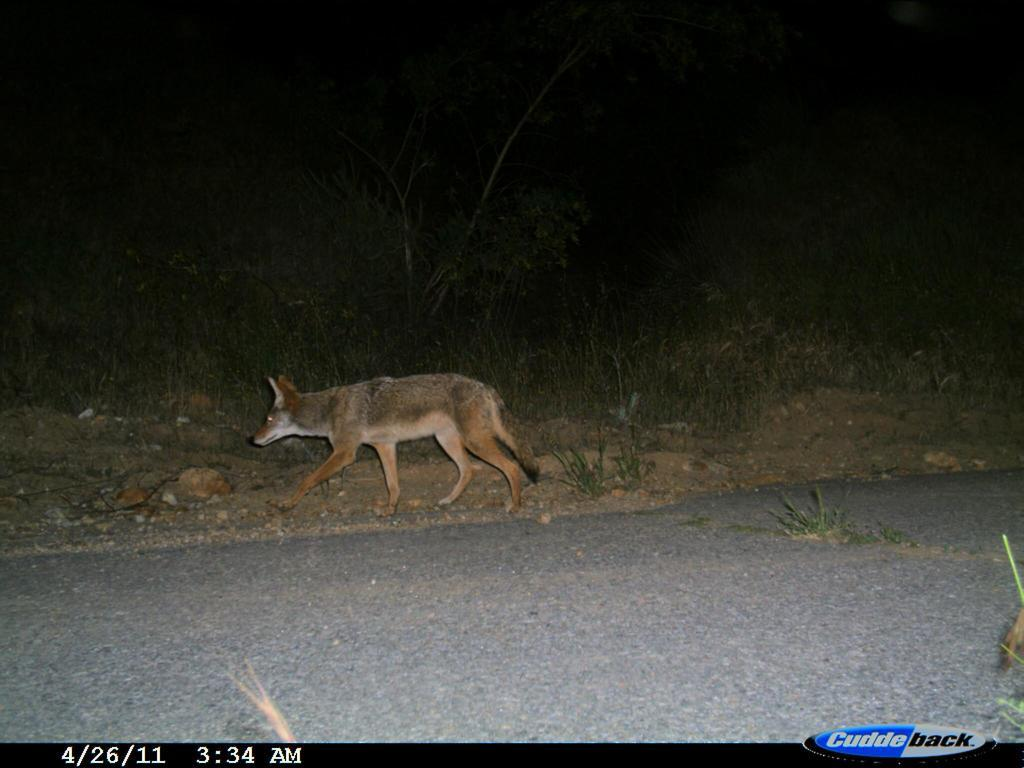coyote: (242, 367, 548, 520)
